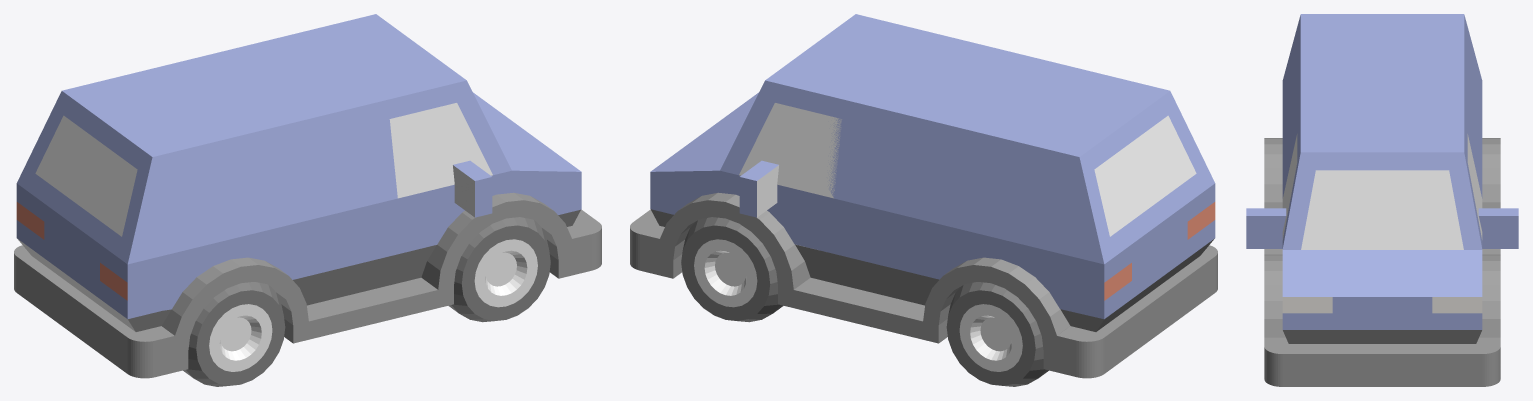
Rendered from Van.dae.
3 renders of one model, left to right at view 1: azimuth 30°, elevation 25°; view 2: azimuth 150°, elevation 25°; view 3: azimuth 270°, elevation 25°, orthographic. The views are drawn at different scales.
Visible parts, largest first — view 1: body, wheel_backLeft, wheel_frontLeft; view 2: body, wheel_backRight, wheel_frontRight; view 3: body.
Boxes of the visible parts, x1=… form: body: x1=14, y1=14, x2=601, y2=378; wheel_backLeft: x1=183, y1=282, x2=285, y2=386; wheel_frontLeft: x1=448, y1=217, x2=550, y2=322; body: x1=630, y1=14, x2=1217, y2=378; wheel_backRight: x1=946, y1=282, x2=1048, y2=386; wheel_frontRight: x1=681, y1=217, x2=783, y2=322; body: x1=1246, y1=14, x2=1518, y2=386.
Size of the model in its own units: 2.03 by 1.13 by 0.975.
